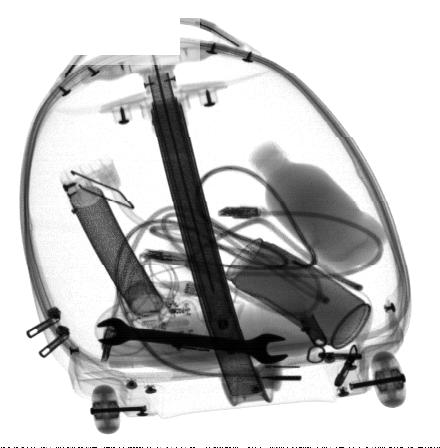Wrench: (96, 316, 289, 365)
